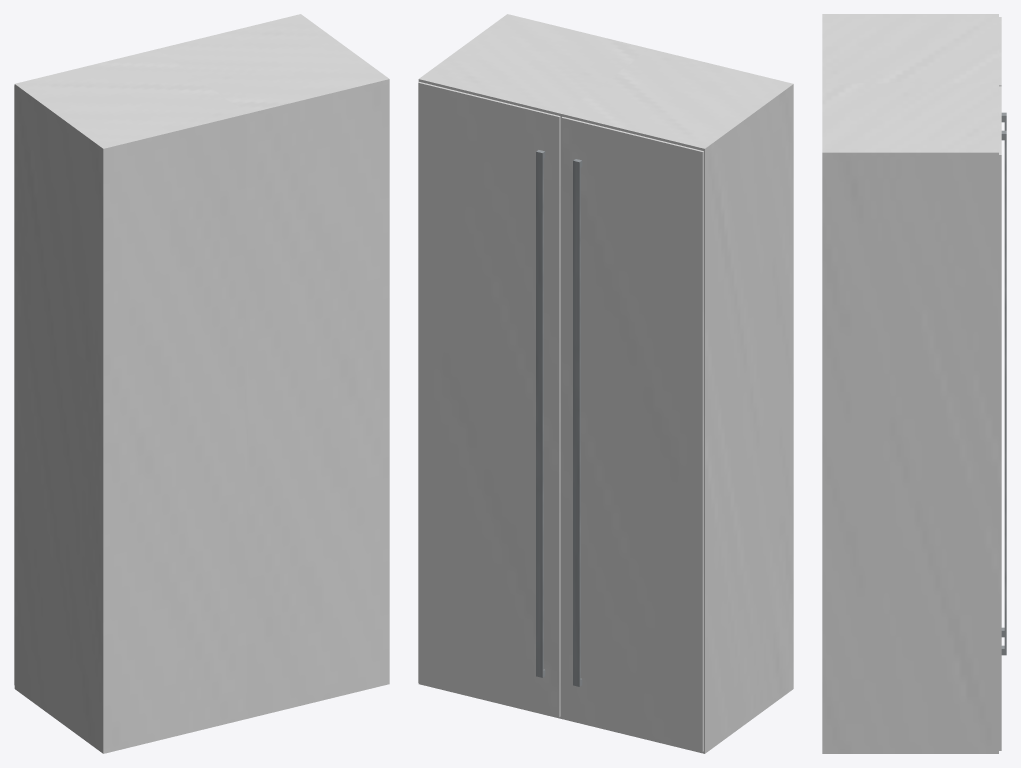
The model's file is File Cabinet Large SHC QuickOffice 1.fbx.
3 renders of one model, left to right at view 1: azimuth 30°, elevation 25°; view 2: azimuth 150°, elevation 25°; view 3: azimuth 270°, elevation 25°, orthographic.
Parts seen in each view (by area): view 1: Component_156_1, Component_156_2; view 2: Component_156_1, Component_156_2; view 3: Component_156_2, Component_156_1.
Part boxes in pixels (x1,y1,x2,y2): Component_156_1: (14, 49, 246, 753); Component_156_2: (158, 14, 389, 718); Component_156_1: (561, 49, 793, 753); Component_156_2: (418, 14, 649, 718); Component_156_2: (822, 83, 1006, 753); Component_156_1: (822, 14, 1006, 637).
Size of what is drawn, in the model's own units: 1.34 by 2.7 by 0.7505.
